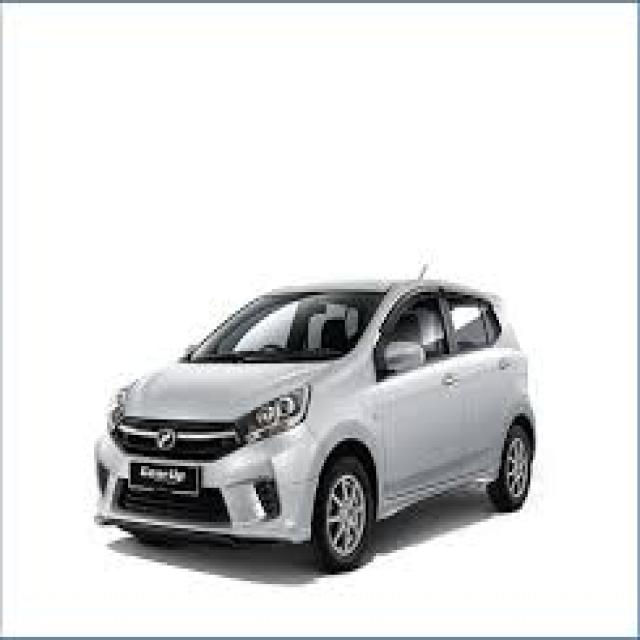PeroduaAxia: (92, 267, 536, 572)
